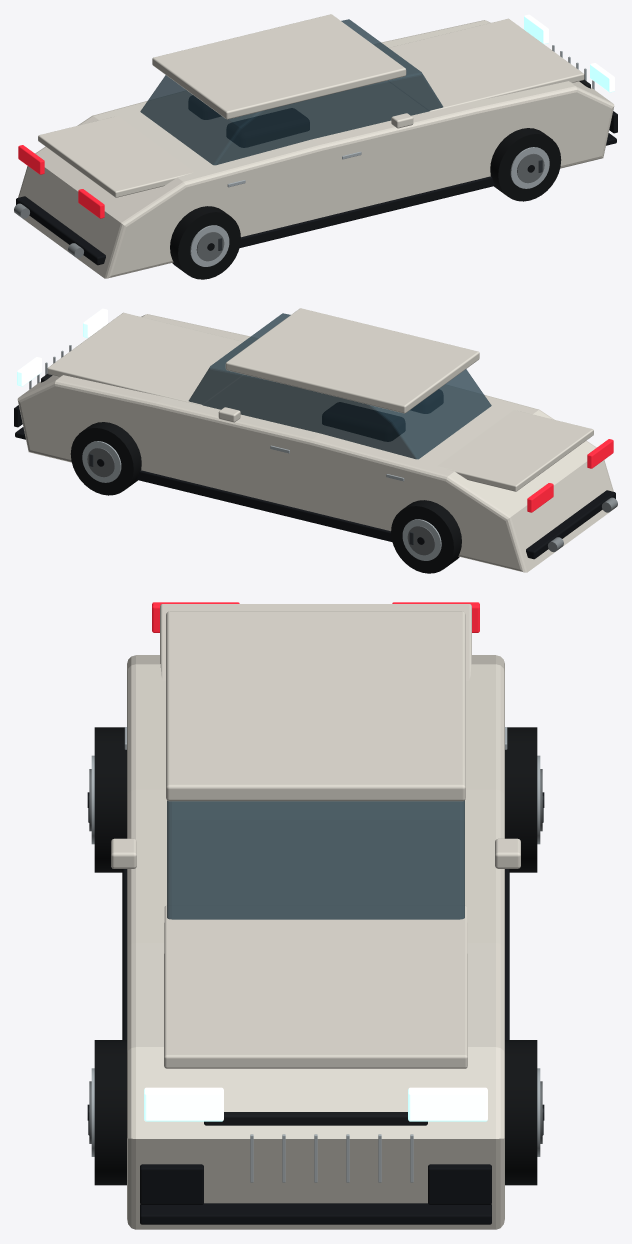
File: rr_ghost_extended.glb
The picture shows the model from 3 angles, top to bottom: view 1: azimuth 30°, elevation 25°; view 2: azimuth 150°, elevation 25°; view 3: azimuth 270°, elevation 25°; orthographic projection. The views are drawn at different scales.
Visible parts, largest first — view 1: sculpted_body, roof, glasshouse, hood_center, rear_deck, side_skirt_1, rear_right_wheel_tire, front_right_wheel_tire, seat_1, rear_diffuser, front_right_wheel_rim, rear_right_wheel_rim (+7 smaller); view 2: sculpted_body, roof, glasshouse, hood_center, rear_deck, side_skirt_-1, rear_left_wheel_tire, front_left_wheel_tire, seat_-1, rear_diffuser, front_left_wheel_rim, rear_left_wheel_rim (+7 smaller); view 3: sculpted_body, roof, hood_center, glasshouse, front_splitter, front_left_wheel_tire, front_right_wheel_tire, rear_left_wheel_tire, rear_right_wheel_tire, rear_deck, headlight_left, headlight_right (+5 smaller).
Boxes of the visible parts, box(x1,y1,x2,y2) form: sculpted_body: box(14, 20, 614, 278); roof: box(152, 14, 406, 119); glasshouse: box(140, 19, 443, 165); hood_center: box(382, 18, 584, 111); rear_deck: box(38, 116, 194, 197); side_skirt_1: box(239, 176, 495, 248); rear_right_wheel_tire: box(170, 206, 240, 279); front_right_wheel_tire: box(490, 128, 561, 201); seat_1: box(227, 108, 309, 147); rear_diffuser: box(16, 196, 105, 265); front_right_wheel_rim: box(510, 147, 549, 188); rear_right_wheel_rim: box(190, 225, 229, 266); sculpted_body: box(17, 314, 617, 572); roof: box(225, 308, 479, 413); glasshouse: box(188, 313, 491, 459); hood_center: box(47, 312, 249, 405); rear_deck: box(437, 410, 593, 491); side_skirt_-1: box(136, 470, 392, 542); rear_left_wheel_tire: box(391, 500, 461, 573); front_left_wheel_tire: box(70, 422, 141, 495); seat_-1: box(322, 402, 404, 441); rear_diffuser: box(526, 490, 615, 559); front_left_wheel_rim: box(82, 441, 121, 482); rear_left_wheel_rim: box(402, 519, 441, 560); sculpted_body: box(127, 655, 504, 1229); roof: box(166, 611, 465, 801); hood_center: box(164, 905, 467, 1068); glasshouse: box(167, 800, 464, 919); front_splitter: box(140, 1203, 491, 1224); front_left_wheel_tire: box(505, 1040, 537, 1185); front_right_wheel_tire: box(94, 1040, 126, 1185); rear_left_wheel_tire: box(505, 727, 537, 872); rear_right_wheel_tire: box(94, 727, 126, 872); rear_deck: box(160, 604, 471, 680); headlight_left: box(408, 1087, 487, 1121); headlight_right: box(144, 1087, 223, 1121).
Size of the model in its own units: 6.1 by 1.58 by 2.26.
